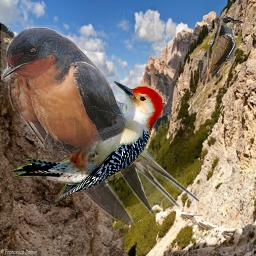Cuckoo: (199, 17, 254, 86)
Swallow: (1, 25, 199, 225)
Woodpecker: (11, 81, 163, 204)
